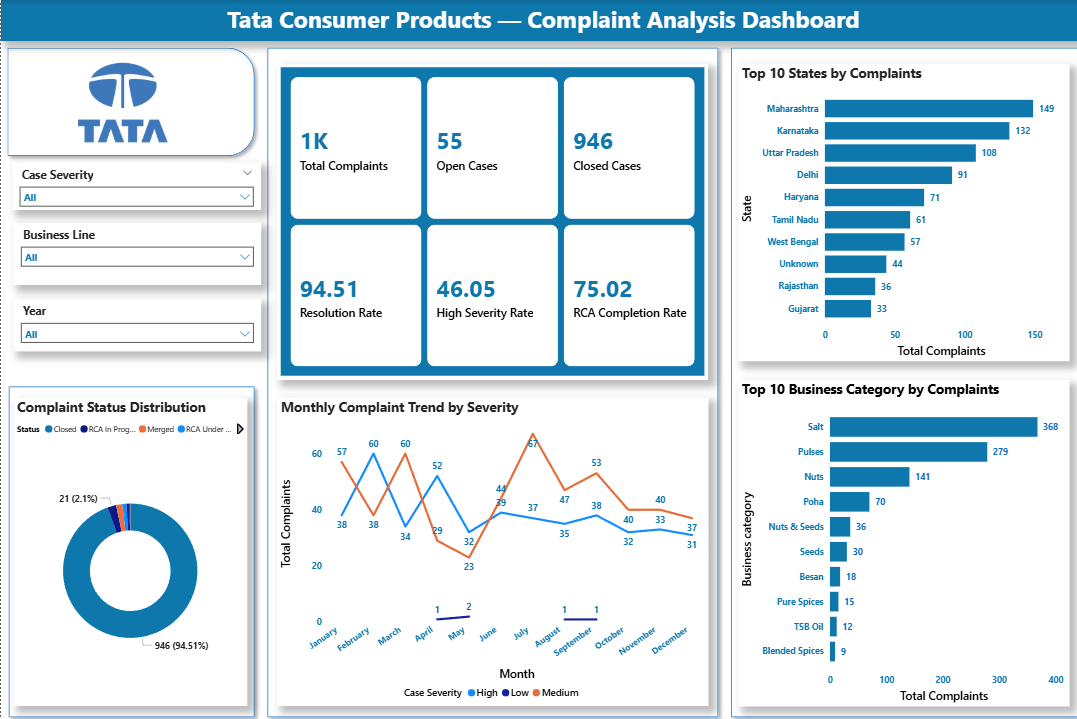

This screenshot's page, from the dashboard's own definition file:
{"tool":"powerbi","page":{"name":"Executive Summary","canvas":[1500,1000],"ordinal":0},"visuals":[{"type":"shape","box":[0,57,359.4,167.6],"z":0},{"type":"textbox","box":[0,0,1499.7,57],"z":1000},{"type":"image","box":[39.7,72.6,257.4,138.2],"z":2000},{"type":"shape","box":[359.4,57,641,943.3],"z":3000},{"type":"cardVisual","fields":{"Data":["1 Measures.Total Complaints","1 Measures.Open Cases","1 Measures.Closed Cases","1 Measures.Resolution Rate","1 Measures.High Severity Rate","1 Measures.RCA Completion Rate"]},"box":[381.8,88.1,596.1,437.1],"z":4000},{"type":"lineChart","title":"Monthly Complaint Trend by Severity","fields":{"Y":["1 Measures.Total Complaints"],"Series":["PowerBI-data.Case Severity"],"Category":["PowerBI-data.Month-Year.Variation.Date Hierarchy.Month"]},"box":[381.8,549.4,596.1,426.7],"z":5000},{"type":"shape","box":[1000.4,57,499.3,943.3],"z":6000},{"type":"clusteredBarChart","title":"Top 10 States by Complaints","fields":{"Category":["PowerBI-data.State"],"Y":["1 Measures.Total Complaints"]},"box":[1019.4,88.1,457.8,411.2],"z":7000},{"type":"clusteredBarChart","title":"Top 10 Business Category by Complaints ","fields":{"Category":["PowerBI-data.Business category"],"Y":["1 Measures.Total Complaints"]},"box":[1019.4,525.2,457.8,450.9],"z":8000},{"type":"shape","box":[1.7,525.2,357.6,475.1],"z":9000},{"type":"slicer","fields":{"Values":["PowerBI-data.Business Line"]},"box":[17.3,307.5,342.1,86.4],"z":10000},{"type":"slicer","fields":{"Values":["PowerBI-data.Case Severity"]},"box":[15.5,224.6,343.8,65.7],"z":11000},{"type":"donutChart","title":"Complaint Status Distribution","fields":{"Category":["PowerBI-data.Status"],"Y":["1 Measures.Total Complaints"]},"box":[17.3,549.4,323.1,426.7],"z":12000},{"type":"slicer","fields":{"Values":["PowerBI-data.Year"]},"box":[17.3,412.9,342.1,72.6],"z":13000}]}

Visuals, with their boxes in screenshot pixels (x1, y1, x2, y2), scaled from the page's 1500x1000 canvas onto the 1077x719 screenshot:
shape: <region>0, 41, 258, 161</region>
textbox: <region>0, 0, 1076, 41</region>
image: <region>29, 52, 213, 152</region>
shape: <region>258, 41, 718, 718</region>
cardVisual - 1 Measures.Total Complaints x 1 Measures.Open Cases: <region>274, 63, 702, 378</region>
"Monthly Complaint Trend by Severity" lineChart: <region>274, 395, 702, 702</region>
shape: <region>718, 41, 1076, 718</region>
"Top 10 States by Complaints" clusteredBarChart: <region>732, 63, 1061, 359</region>
"Top 10 Business Category by Complaints " clusteredBarChart: <region>732, 378, 1061, 702</region>
shape: <region>1, 378, 258, 718</region>
slicer - PowerBI-data.Business Line: <region>12, 221, 258, 283</region>
slicer - PowerBI-data.Case Severity: <region>11, 161, 258, 209</region>
"Complaint Status Distribution" donutChart: <region>12, 395, 244, 702</region>
slicer - PowerBI-data.Year: <region>12, 297, 258, 349</region>
